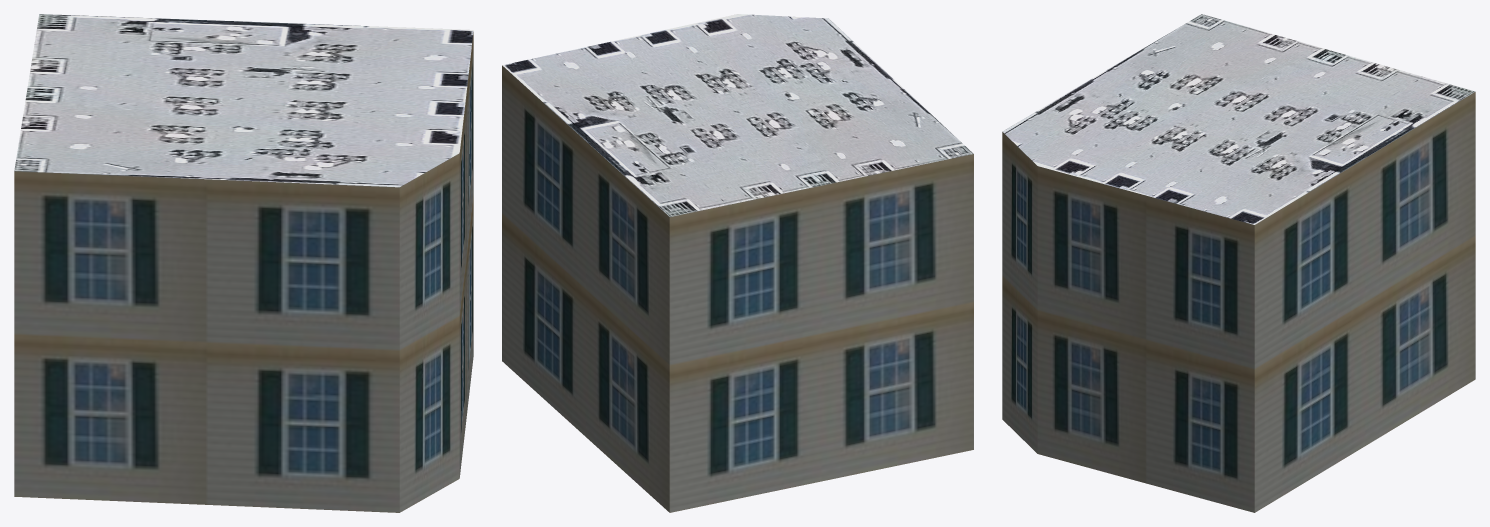
File: ResTex__3067.fbx
3 renders of one model, left to right at view 1: azimuth 30°, elevation 25°; view 2: azimuth 150°, elevation 25°; view 3: azimuth 270°, elevation 25°, orthographic. The views are drawn at different scales.
Visible parts, largest first — view 1: CityEngineMaterial_7_m, CityEngineMaterial_8_m; view 2: CityEngineMaterial_7_m, CityEngineMaterial_8_m; view 3: CityEngineMaterial_7_m, CityEngineMaterial_8_m.
Boxes of the visible parts, x1,y1,x2,y2 form: CityEngineMaterial_7_m: (14,32,473,512); CityEngineMaterial_8_m: (14,14,473,187); CityEngineMaterial_7_m: (502,65,973,512); CityEngineMaterial_8_m: (502,14,973,216); CityEngineMaterial_7_m: (1002,92,1475,512); CityEngineMaterial_8_m: (1002,14,1475,224).
Size of the model in its own units: 9.43 by 6 by 8.94.
Materials: 2 (2 with a texture image).
